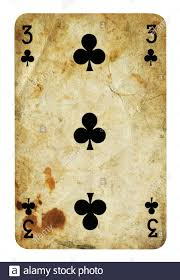three of clubs: (15, 12, 167, 248)
